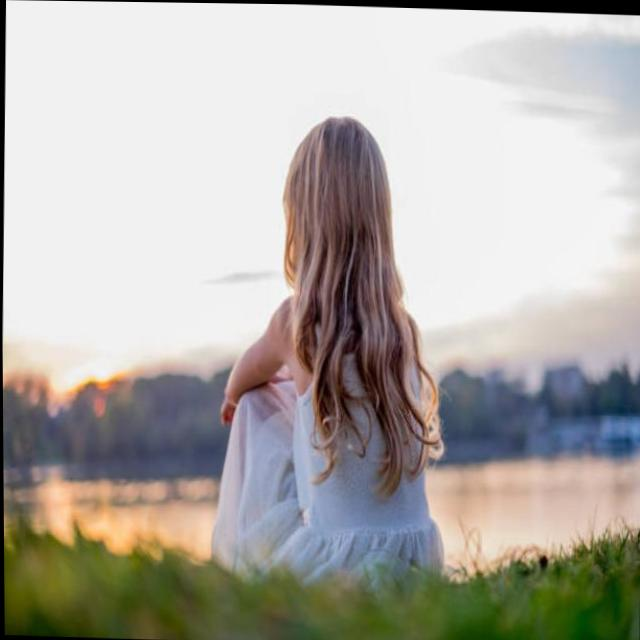no helmet: (266, 102, 418, 387)
